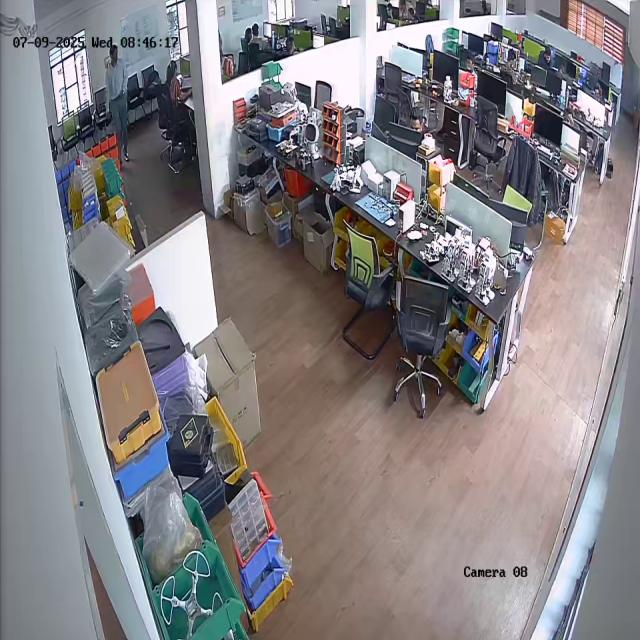person: (105, 44, 130, 163)
